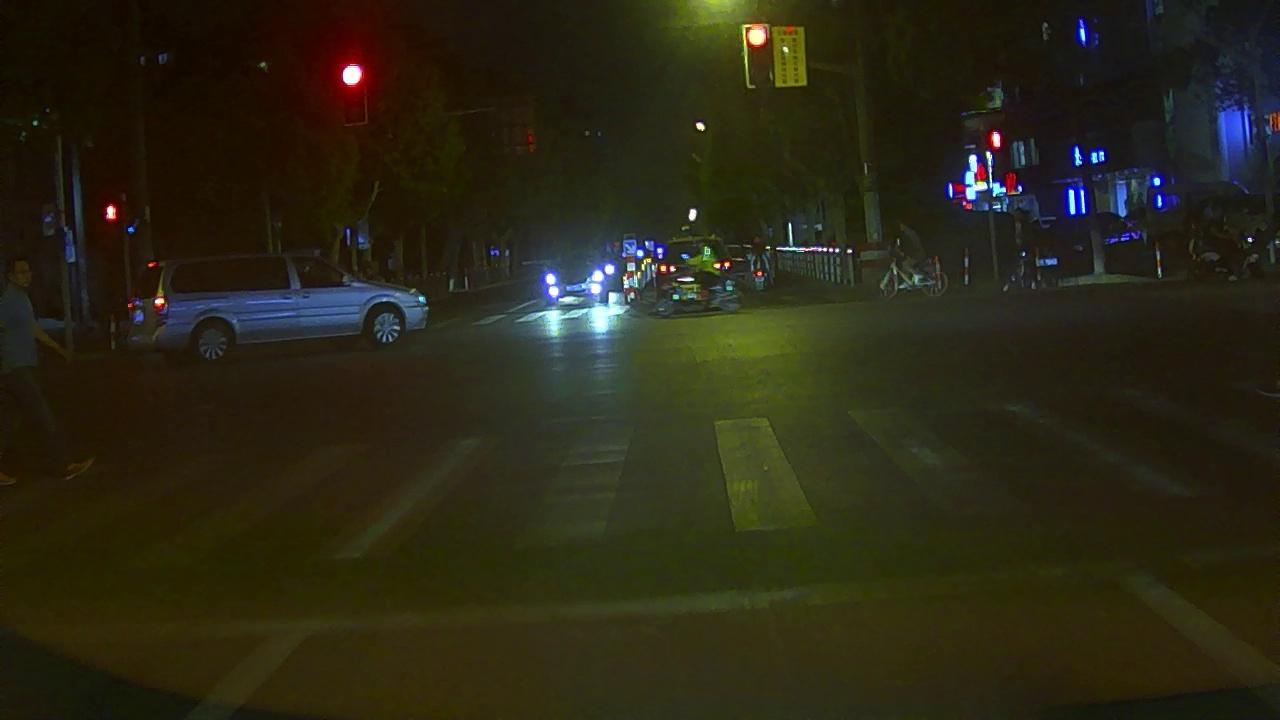traffic_light: (744, 24, 772, 88), (342, 63, 364, 124)
